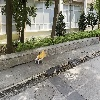fire: (37, 48, 47, 60)
